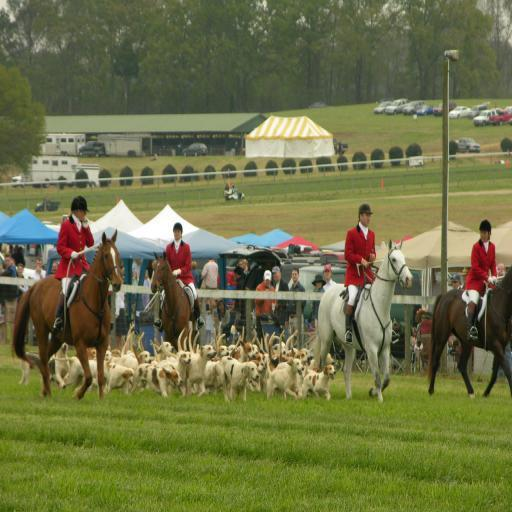horse: (300, 234, 414, 402), (13, 226, 123, 400), (424, 264, 512, 396), (149, 249, 202, 350)
